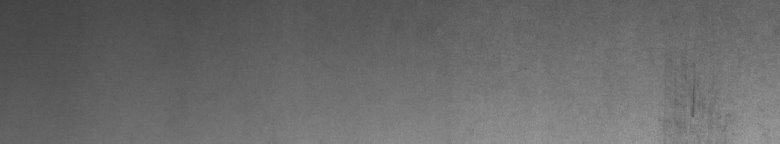ka: (668, 86, 734, 134)
